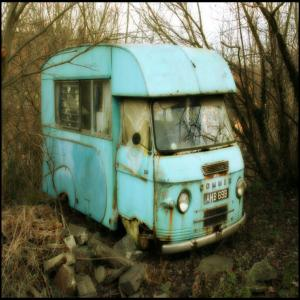Vehicle-registration-plate: (205, 190, 230, 206)
